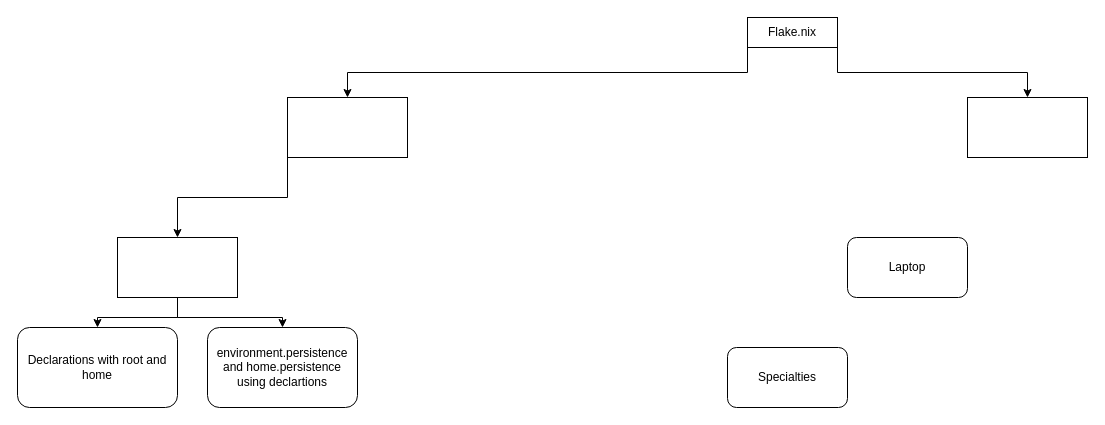
This 1105x425 diagram has some shape labels left out. Here are the shapes that lost their labels. From the top down, the box of each, then its label:
(286, 96, 408, 158): Modules
(966, 96, 1088, 158): Systems
(116, 236, 238, 298): Impermanence
